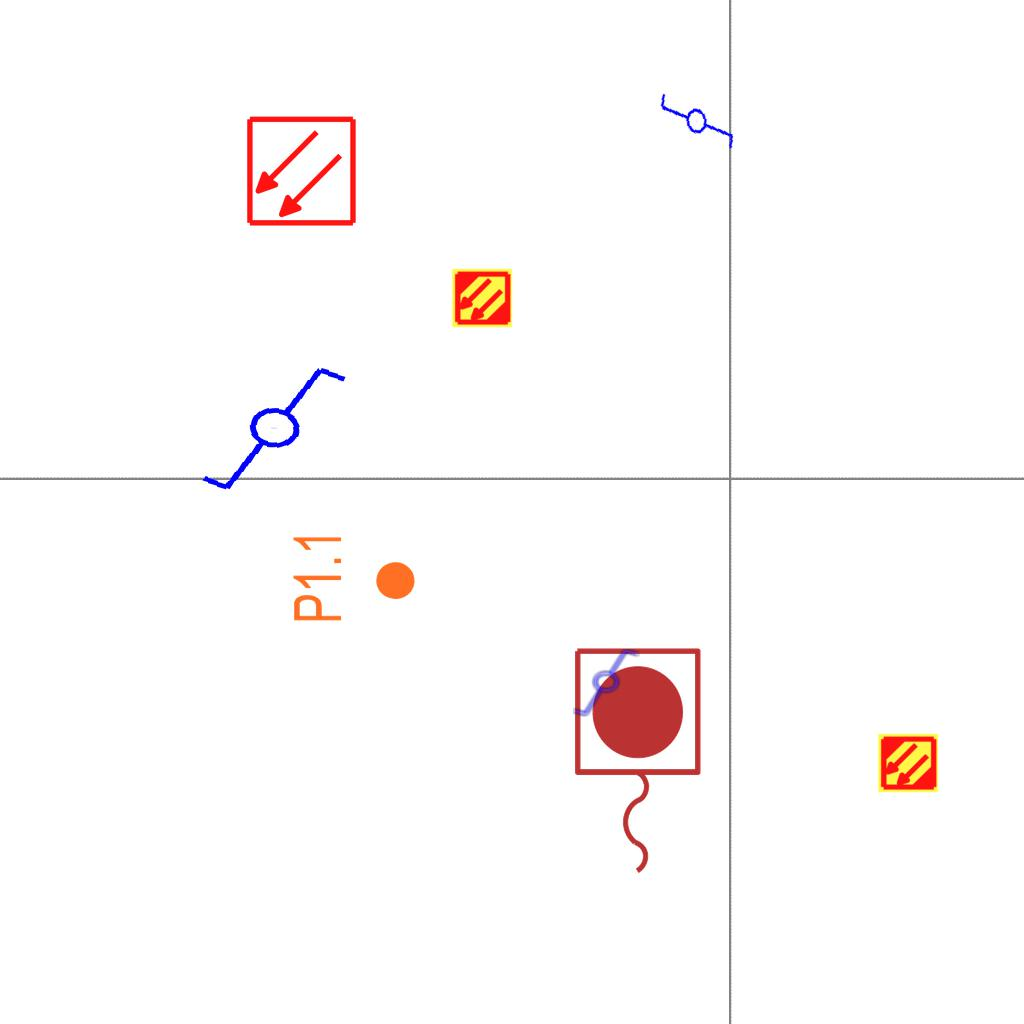ASR_Ansaugrauchmelder: (877, 732, 939, 794), (451, 267, 513, 329)
Downlight_LED_Einbauleuchten_Flur: (290, 531, 418, 624)
RMO_Rauchmelder_optischer: (245, 115, 358, 228)
Wechselschalter: (196, 351, 369, 511), (654, 72, 740, 162), (571, 647, 649, 719)
Zugtaster: (564, 640, 708, 884)
